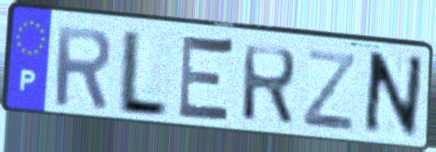E: (174, 30, 238, 129)
L: (112, 28, 172, 121)
N: (359, 49, 427, 142)
R: (53, 22, 114, 112), (239, 43, 300, 129)
Z: (300, 46, 359, 135)
